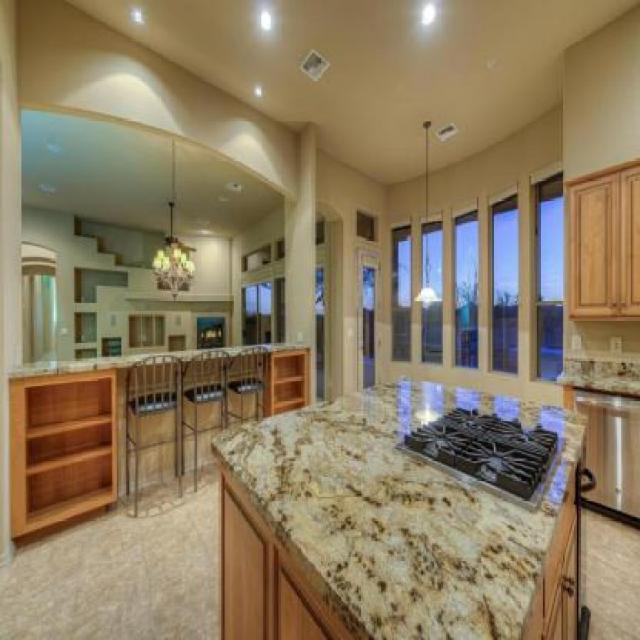Floor: (0, 461, 220, 639), (587, 510, 639, 639)
